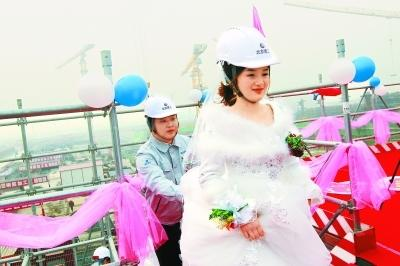helmet: (216, 27, 281, 71), (145, 93, 177, 121), (93, 245, 112, 258)
no_wear: (199, 105, 290, 257), (140, 141, 192, 219)
